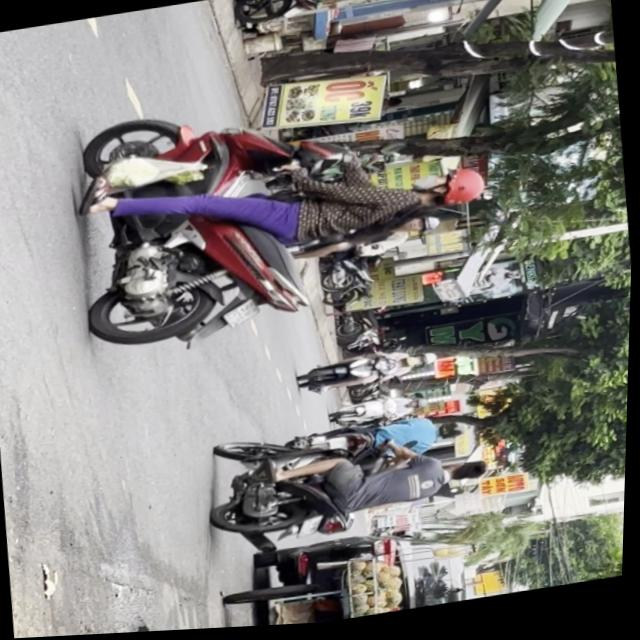helmet: (418, 169, 488, 215)
licenseplate: (58, 64, 511, 365), (203, 405, 502, 562)
motorcyclist: (447, 459, 494, 489)
